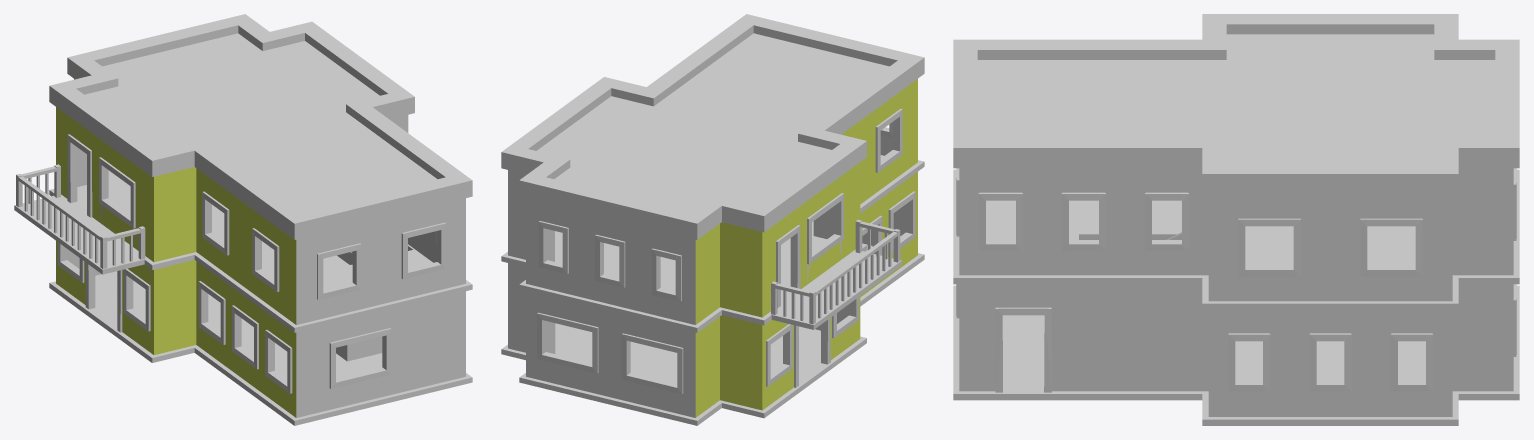
The model's file is colorchangs.glb.
3 renders of one model, left to right at view 1: azimuth 30°, elevation 25°; view 2: azimuth 150°, elevation 25°; view 3: azimuth 270°, elevation 25°, orthographic. The views are drawn at different scales.
Visible parts, largest first — view 1: building.001; view 2: building.001; view 3: building.001.
Boxes of the visible parts, box(x1,y1,x2,y2) form: building.001: box(14, 14, 472, 425); building.001: box(501, 14, 924, 425); building.001: box(953, 14, 1519, 425).
Bounding box in the file's own units: 11.32 × 7.17 × 14.6.
